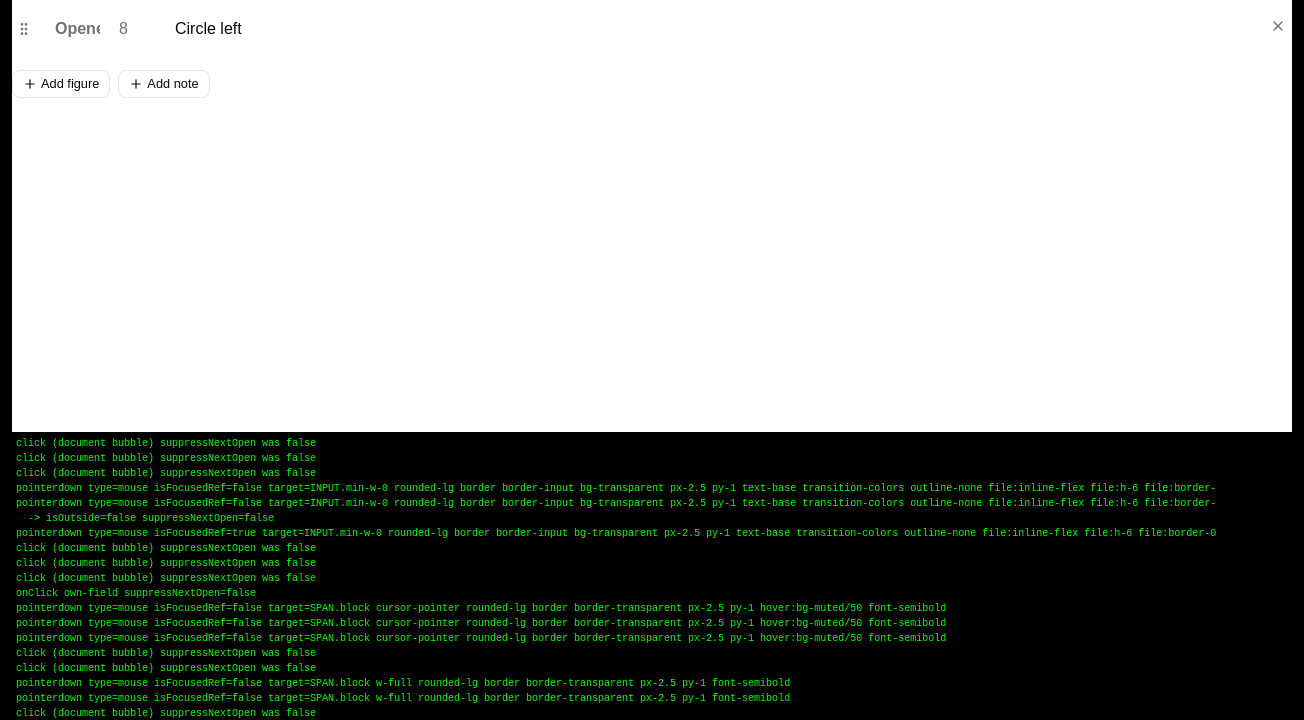
FiguresList › edit mode (isEditing=true) - reorder, add/remove, edit everything › renders phrase as editable even with manualPhrasing off, when the dance type has no default skeleton at all
Click the text "Opener".
click(83, 28)  # box [55,20,111,37]
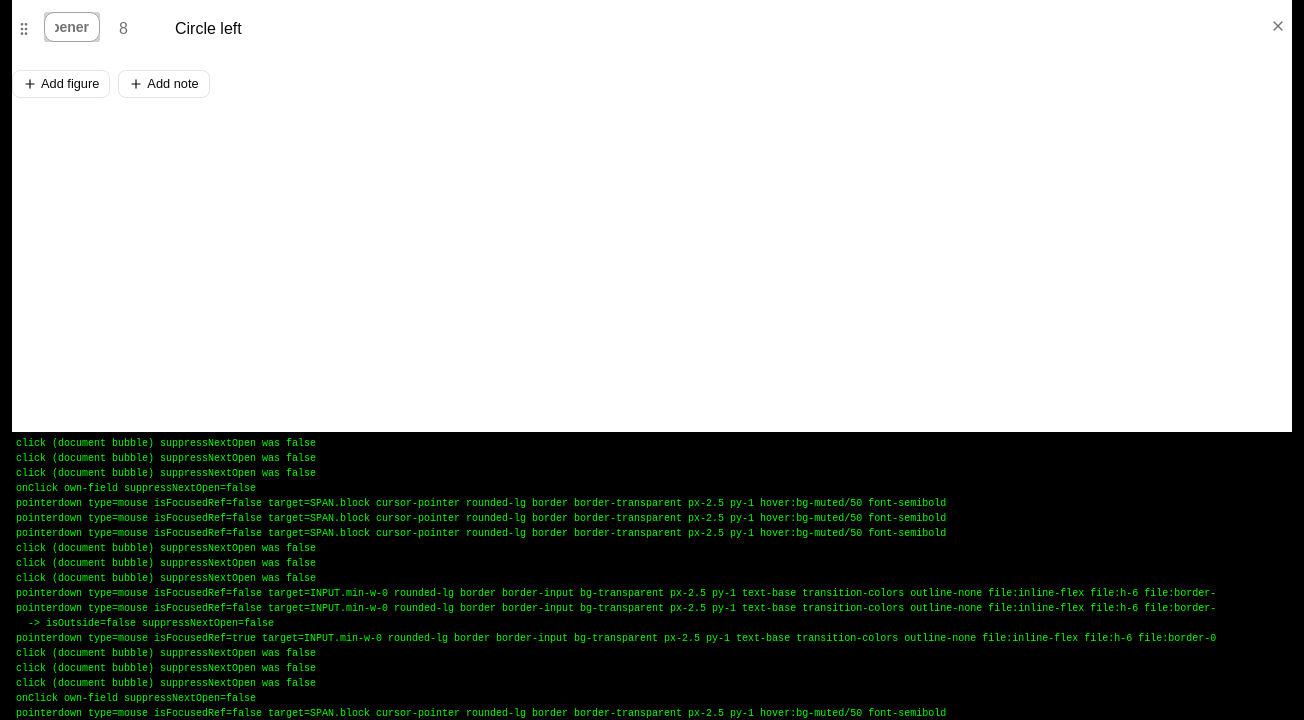
Result: the field is shown at [44,12,100,42]
